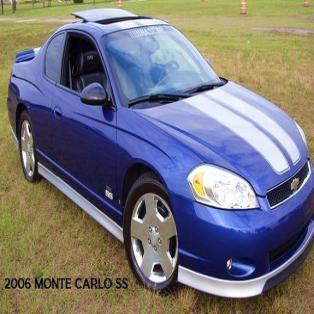Auto: (6, 7, 314, 301)
